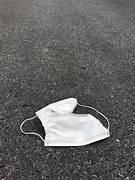Mask: (20, 98, 109, 145)
